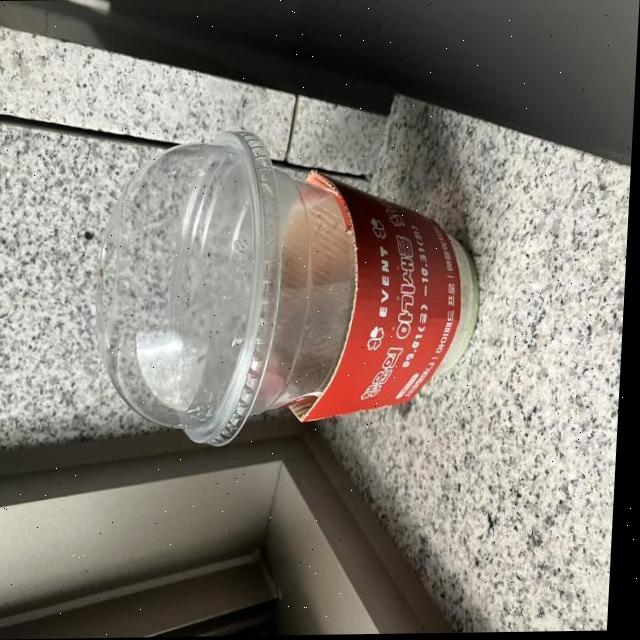cup: (98, 107, 476, 434)
